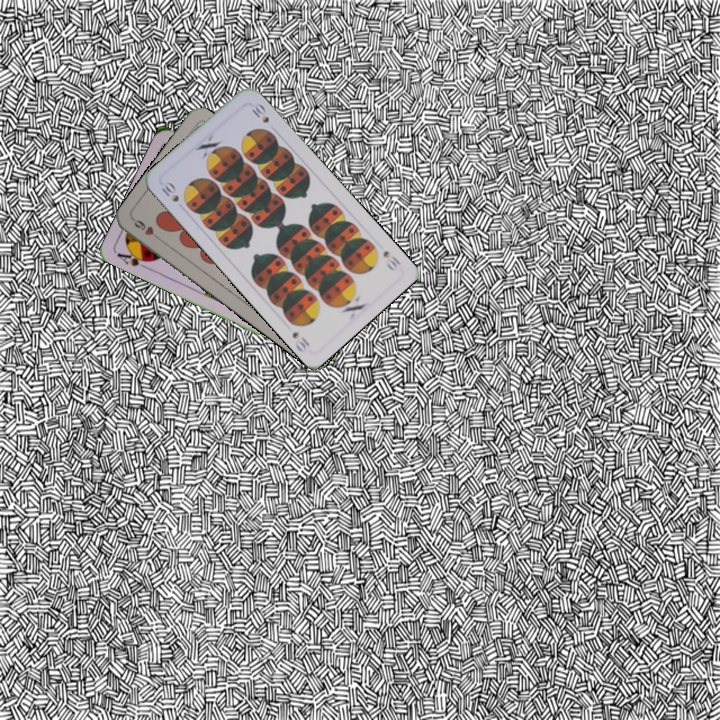H9: (129, 215, 164, 243)
S10: (157, 177, 182, 205), (379, 247, 403, 274)
SA: (113, 246, 154, 272)
